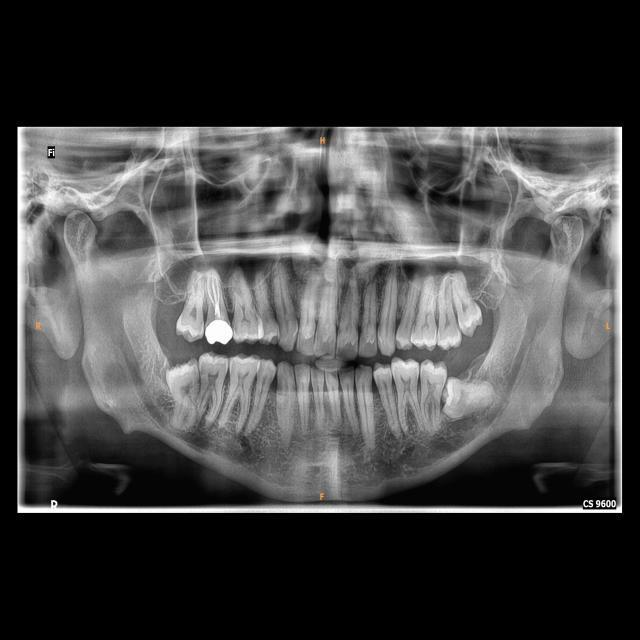dolgu: (204, 316, 237, 348)
kanal-tedavisi: (203, 272, 226, 320)
